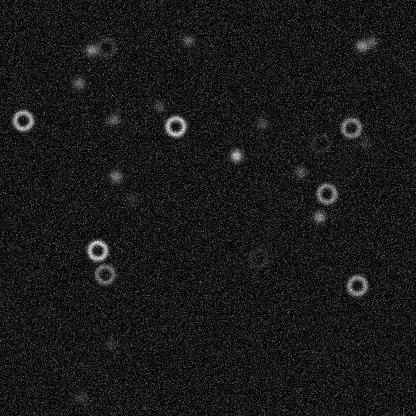Ring: (93, 35, 117, 59), (163, 114, 187, 138), (246, 246, 270, 270), (345, 273, 369, 297), (10, 108, 34, 132), (308, 131, 332, 155), (92, 262, 116, 286), (314, 181, 338, 205), (339, 115, 363, 139), (85, 238, 109, 262)
Spot: (83, 41, 99, 57), (254, 115, 270, 131), (180, 32, 196, 48), (363, 34, 379, 50), (353, 37, 369, 53), (103, 335, 119, 351), (227, 147, 243, 163), (105, 111, 121, 127), (122, 190, 138, 206), (107, 168, 123, 184), (311, 208, 327, 224), (292, 163, 308, 179), (151, 98, 167, 114), (356, 135, 372, 151), (70, 75, 86, 91), (72, 388, 88, 404)
